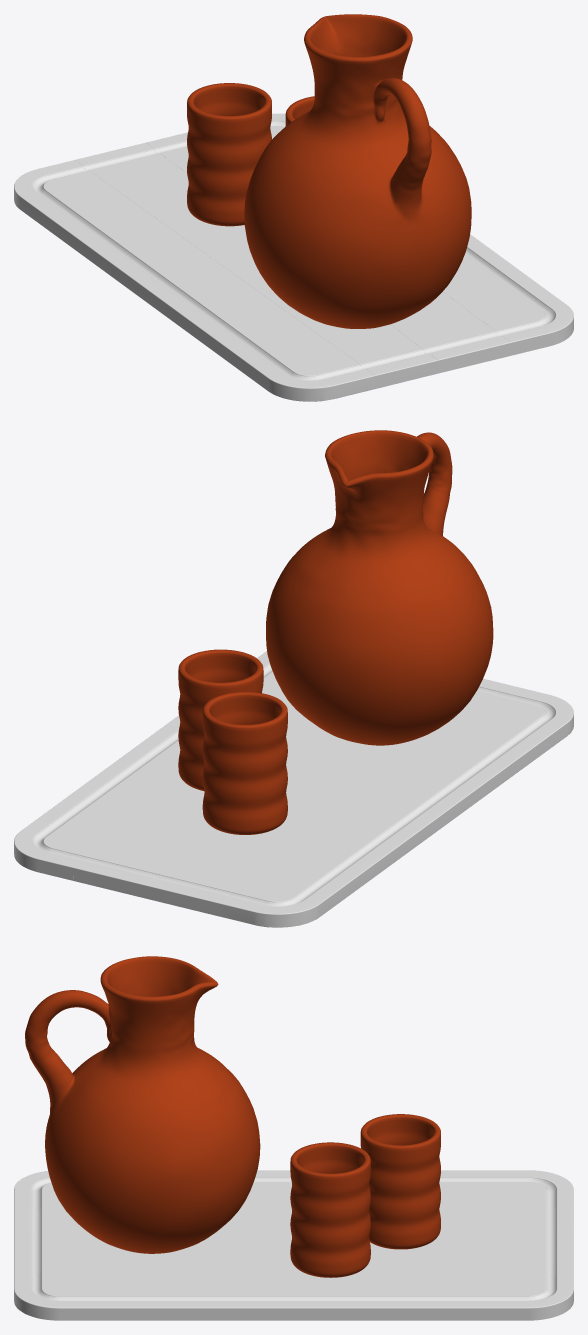
File: tazzine.fbx
3 views of the same model, one above another, from view 1: azimuth 30°, elevation 25°; view 2: azimuth 150°, elevation 25°; view 3: azimuth 270°, elevation 25° (orthographic). The views are drawn at different scales.
Parts seen in each view (by area): view 1: Tray with clay jug and cups, jug, mugs; view 2: Tray with clay jug and cups, jug, mugs; view 3: Tray with clay jug and cups, jug, mugs.
Boxes of the visible parts, x1,y1,x2,y2 form: Tray with clay jug and cups: [14, 113, 573, 401]; jug: [244, 14, 471, 328]; mugs: [187, 83, 314, 226]; Tray with clay jug and cups: [14, 651, 573, 927]; jug: [266, 430, 493, 745]; mugs: [178, 649, 287, 834]; Tray with clay jug and cups: [14, 1170, 573, 1320]; jug: [25, 956, 260, 1253]; mugs: [290, 1114, 440, 1277].
Bounding box in the file's own units: 26.94 × 24.6 × 46.2.
